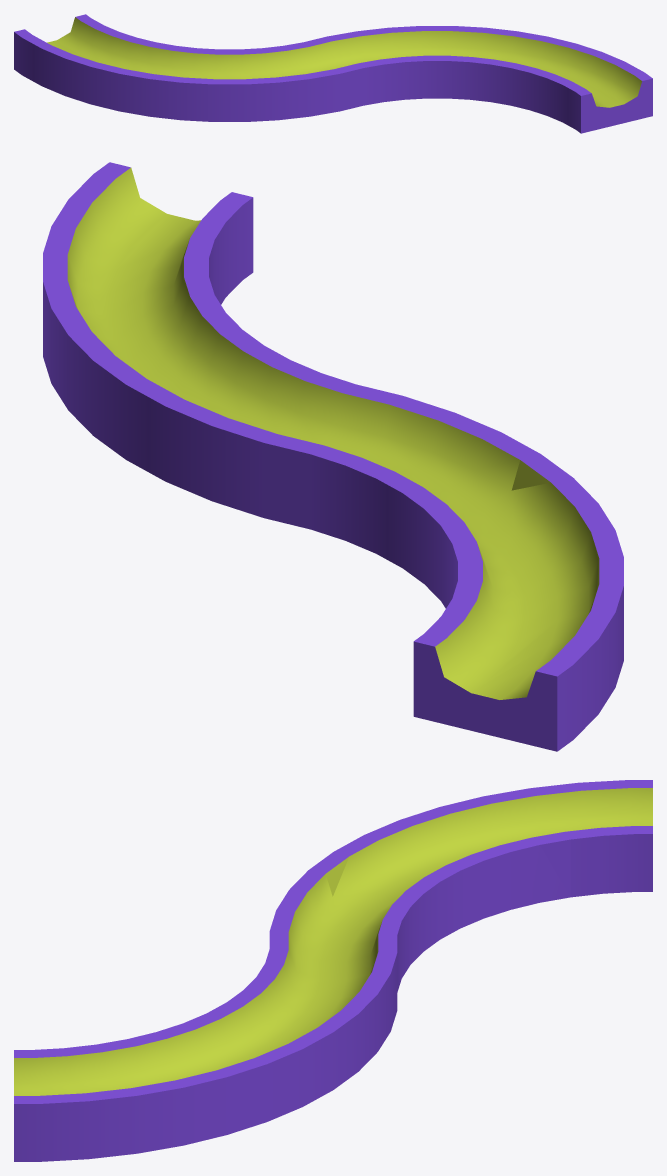
Rendered from s-curve_left_large-col.dae.
The picture shows the model from 3 angles, top to bottom: view 1: azimuth 30°, elevation 25°; view 2: azimuth 150°, elevation 25°; view 3: azimuth 270°, elevation 25°; orthographic projection. The views are drawn at different scales.
Parts seen in each view (by area): view 1: s-curve_left_large-col; view 2: s-curve_left_large-col; view 3: s-curve_left_large-col.
Boxes of the visible parts, box(x1,y1,x2,y2) form: s-curve_left_large-col: box(14, 14, 652, 133); s-curve_left_large-col: box(43, 162, 623, 751); s-curve_left_large-col: box(14, 780, 652, 1161).
Bounding box in the file's own units: 6 × 5 × 0.5.
